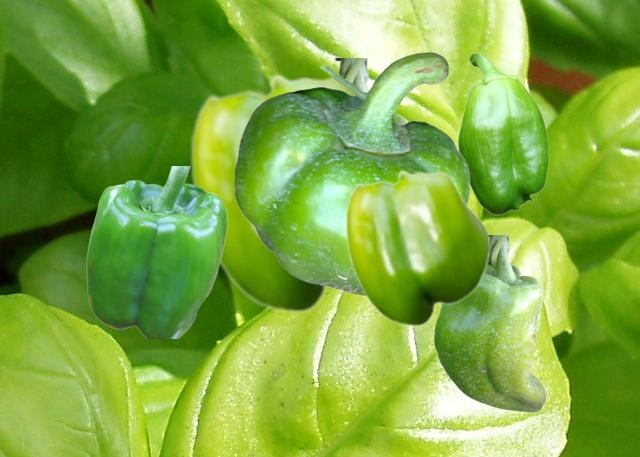bell_pepper: (234, 51, 469, 291), (190, 73, 353, 313), (86, 166, 226, 337), (345, 169, 490, 326), (433, 235, 545, 411), (334, 58, 408, 296), (457, 52, 548, 214)
